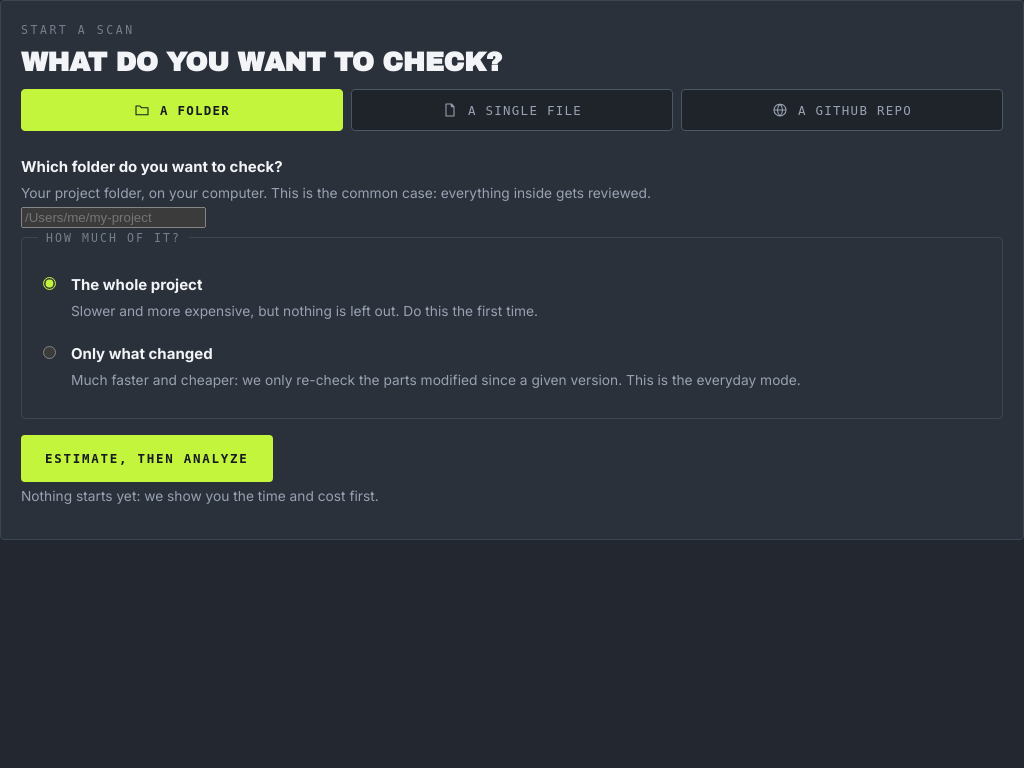
it: ScanLauncher › propose les trois formes de cible, dont le dépôt GitHub
The image size is (1024, 768).
Expected: the tab "A folder" is shown, [21, 89, 343, 131]
Expected: the tab "A single file" is shown, [351, 89, 673, 131]
Click the tab "A GitHub repo".
click(842, 110)  # box [681, 89, 1003, 131]
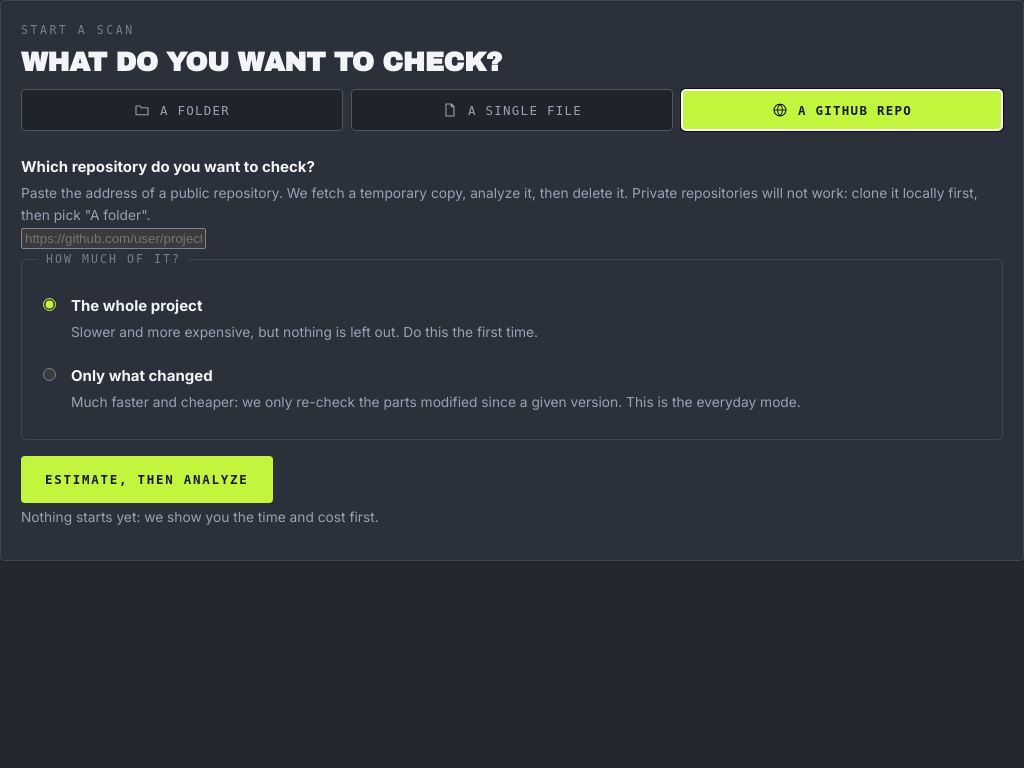
Now the text "Which repository do you want to check?" is shown, box [21, 157, 315, 176]
